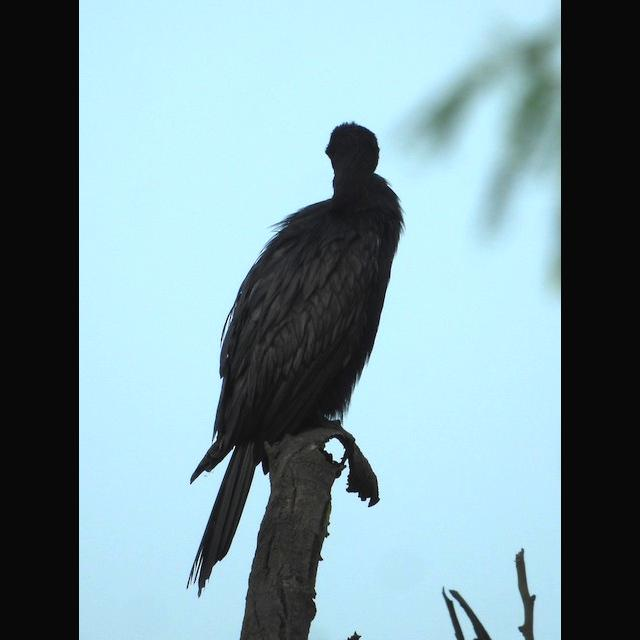cormorant: (148, 102, 410, 600)
